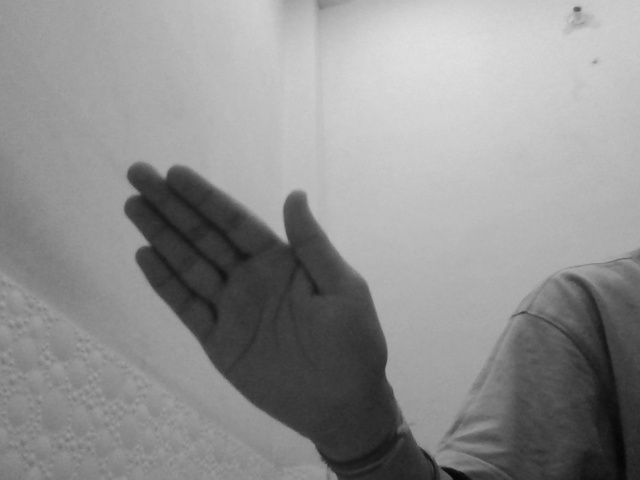Hello: (111, 154, 397, 449)
